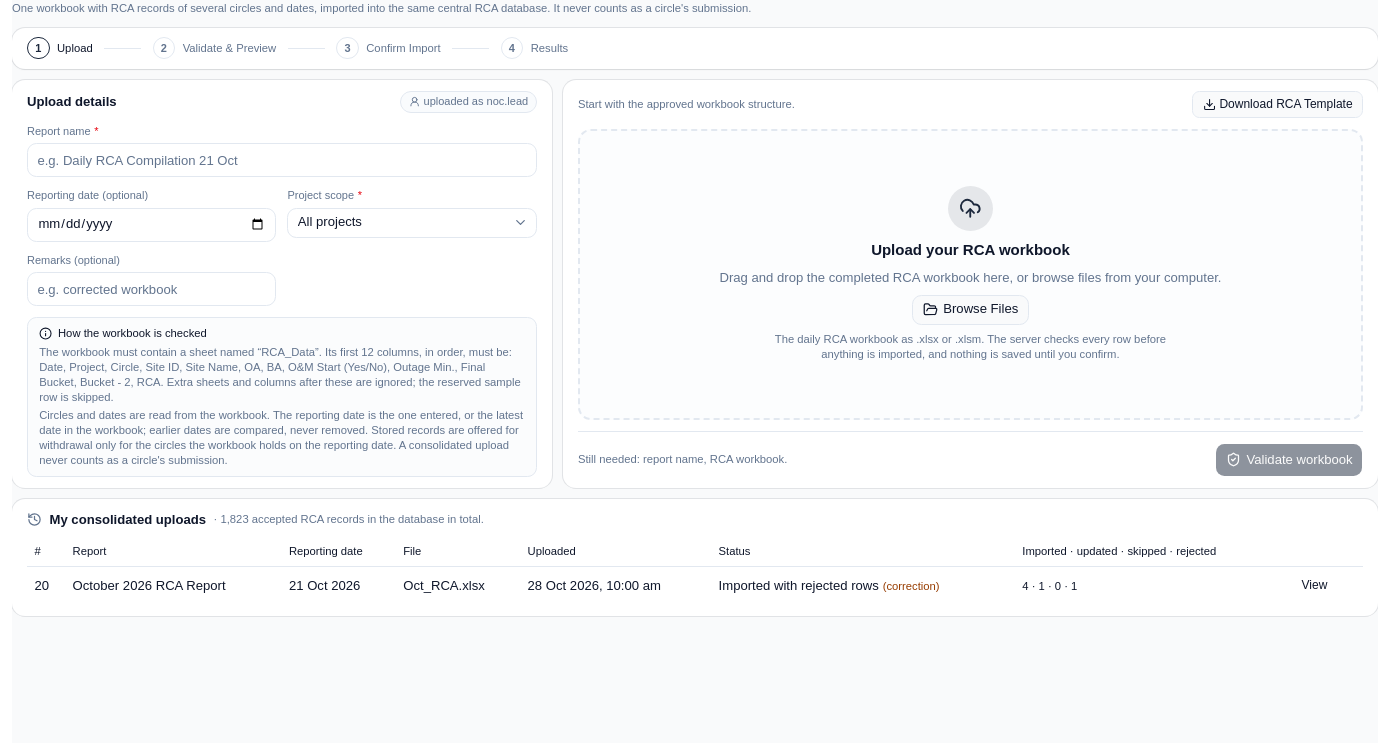
Upload RCA Data › lists the user's own uploads and opens the summary of one
Expected: the heading "My consolidated uploads" is shown, left=50, top=511, right=206, bottom=529
Expected: the row that starts with "October 2026 RCA Report" shows "4 · 1 · 0 · 1", left=1022, top=580, right=1077, bottom=592
Step 1. Click the button "View" → (1314, 586), box left=1291, top=573, right=1338, bottom=599
(page scrolled)
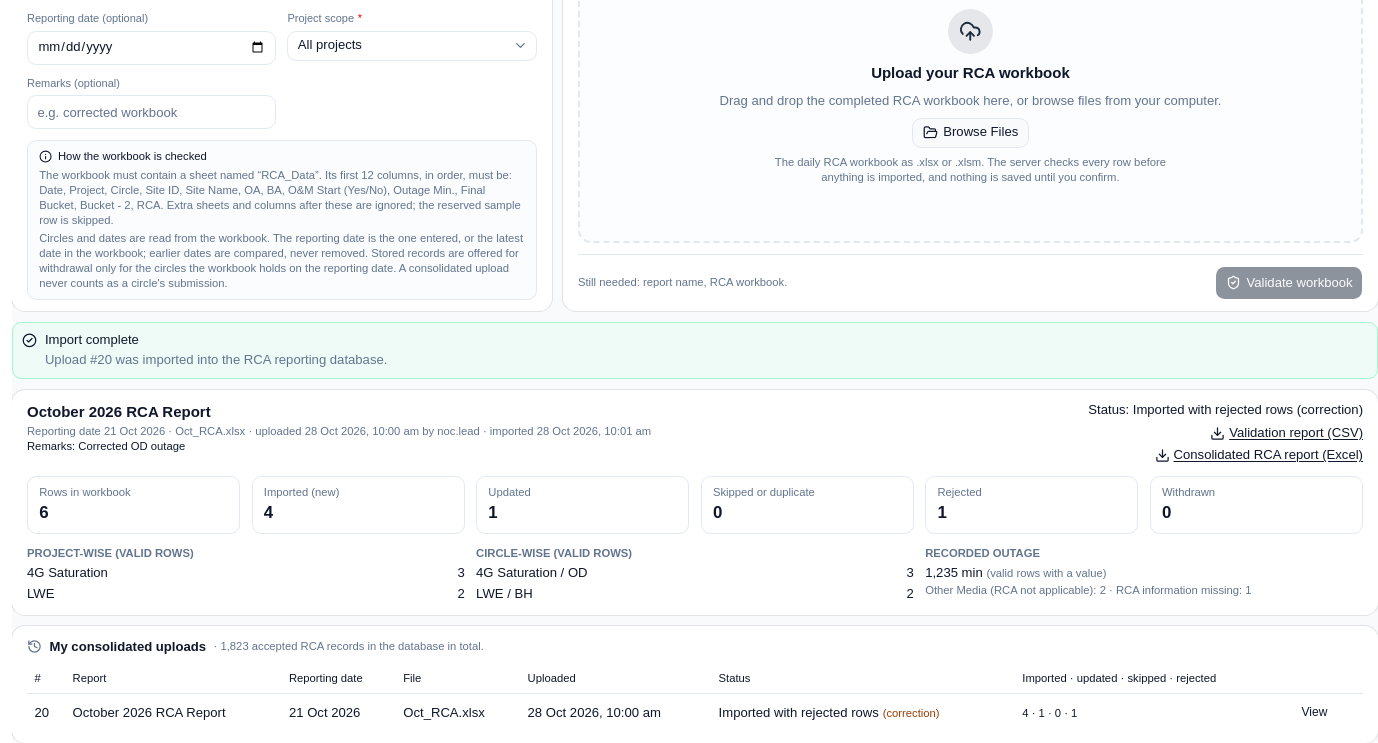
Now the element named "Upload summary" is shown, box left=12, top=390, right=1377, bottom=615
